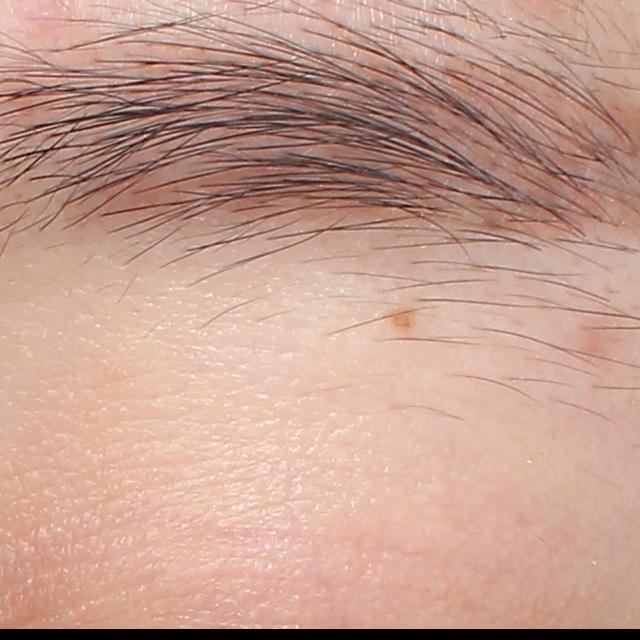nevus: (391, 300, 414, 331)
